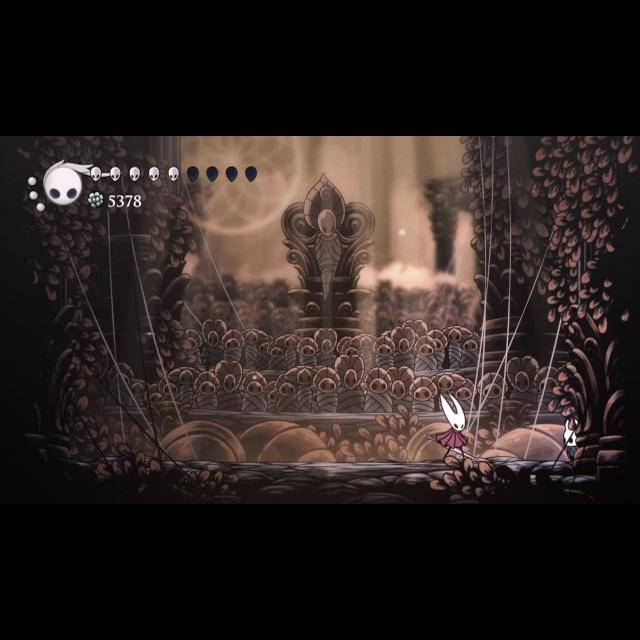Enemy: (416, 390, 492, 468)
Player: (558, 415, 590, 465)
